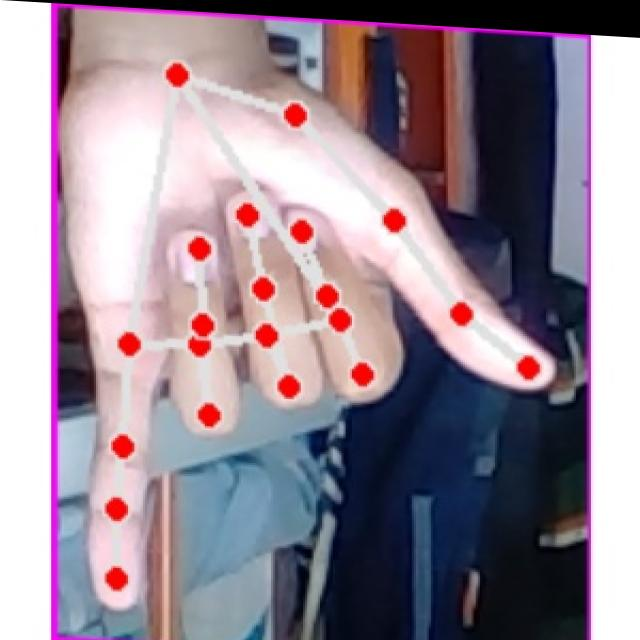Y: (68, 35, 561, 636)
